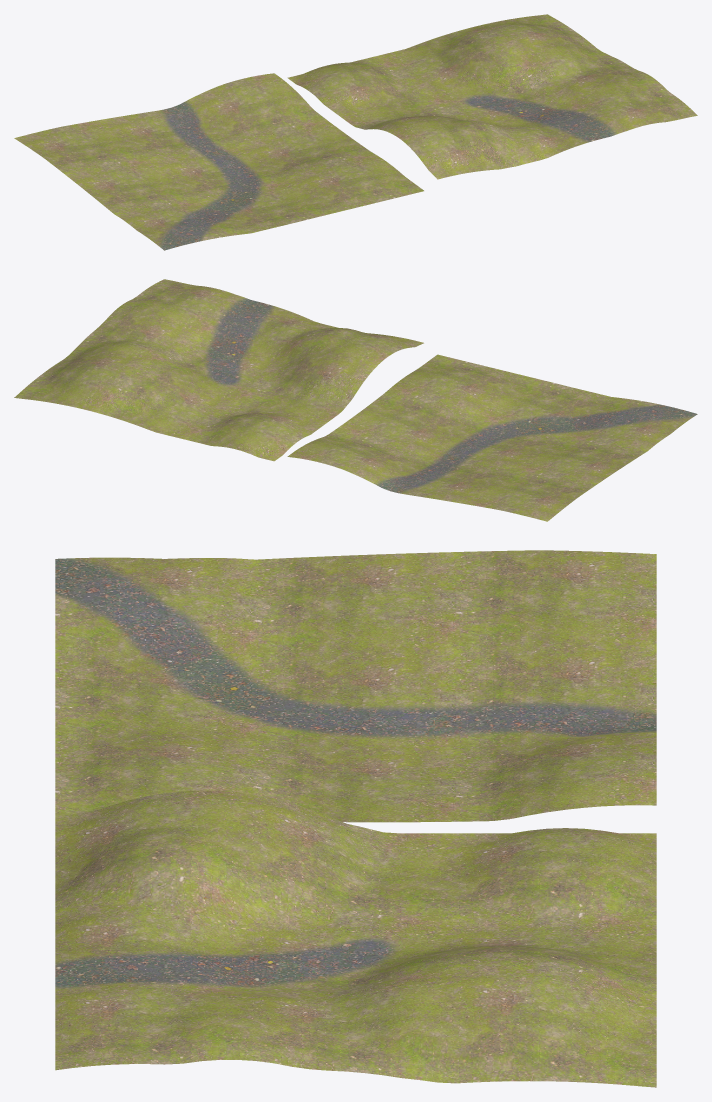
The model's file is Floor Base.fbx.
3 renders of one model, top to bottom at view 1: azimuth 30°, elevation 25°; view 2: azimuth 150°, elevation 25°; view 3: azimuth 270°, elevation 25°, orthographic. The views are drawn at different scales.
Parts seen in each view (by area): view 1: House, Road; view 2: Road, House; view 3: Road, House.
Part boxes in pixels (box(x1,y1,x2,y2)): House: box(14, 73, 423, 250); Road: box(287, 14, 697, 179); Road: box(14, 279, 423, 461); House: box(287, 354, 697, 521); Road: box(55, 790, 656, 1087); House: box(55, 550, 656, 822).
Bounding box in the file's own units: 410 × 23.56 × 200.
1 material, 1 textured.
